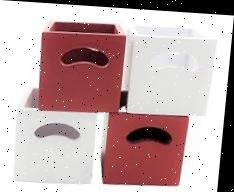cube: (125, 20, 220, 114), (38, 15, 128, 112), (13, 106, 107, 185), (102, 108, 192, 187)
